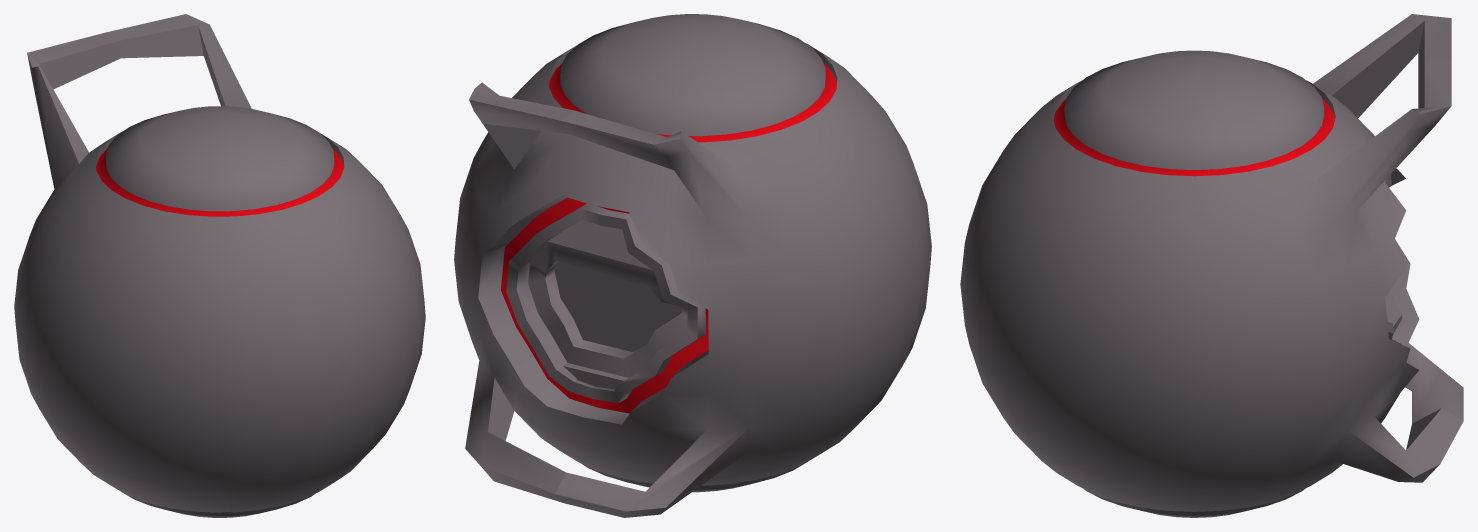
Rendered from Drone.fbx.
The picture shows the model from 3 angles, left to right: view 1: azimuth 30°, elevation 25°; view 2: azimuth 150°, elevation 25°; view 3: azimuth 270°, elevation 25°; orthographic projection. The views are drawn at different scales.
Parts seen in each view (by area): view 1: Sphere; view 2: Sphere; view 3: Sphere.
Part boxes in pixels (bbox=[...]): Sphere: bbox=[14, 14, 425, 517]; Sphere: bbox=[454, 14, 931, 517]; Sphere: bbox=[960, 14, 1463, 517].
Bounding box in the file's own units: 200 × 205 × 215.
